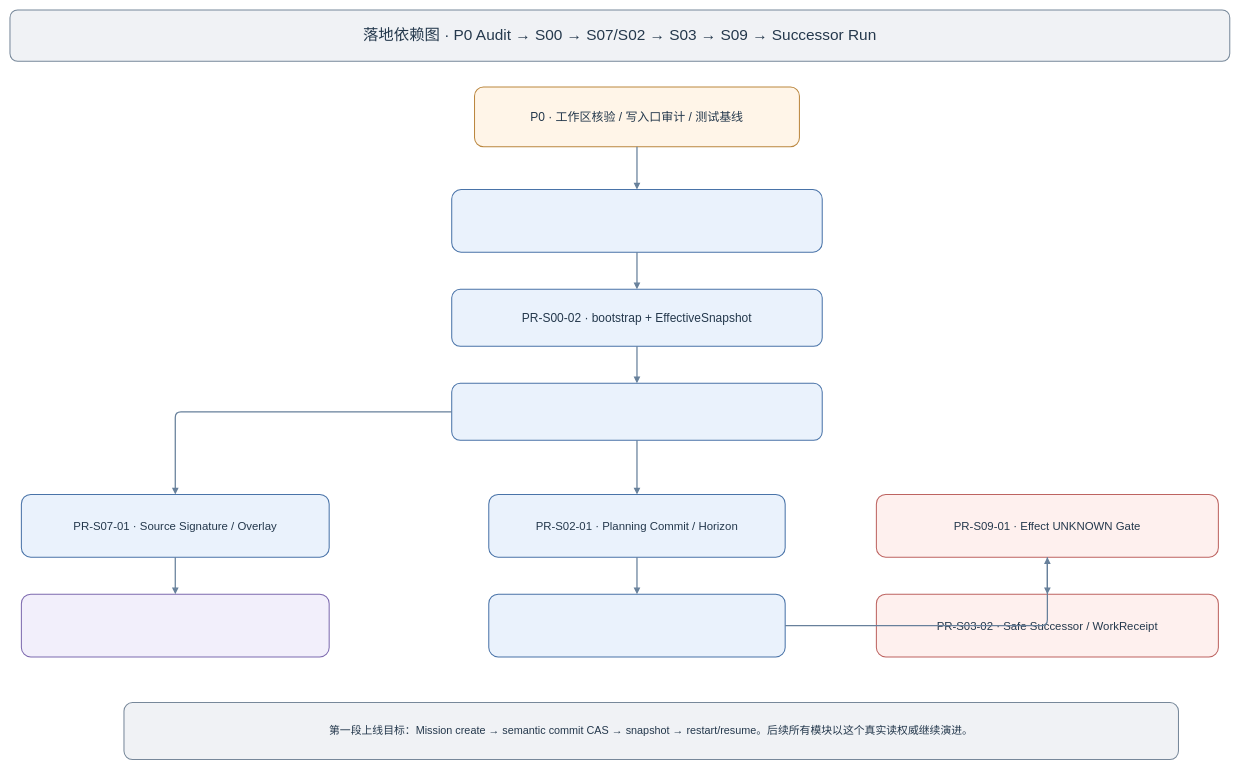
This 1240x770 diagram has some shape labels left out. The box of each missing label's shape, as (x1, y1, x2, y2) in pixels:
PR-S00-01 · Semantic CAS + History + Outbox: (451, 189, 822, 252)
PR-S00-03 · Decision/Fact + Cognitive Projection: (451, 383, 822, 441)
PR-S03-01 · Graph ACTIVE Fence: (488, 593, 785, 657)
PR-S07-02/03 · Budget / Capsule: (21, 593, 329, 657)
